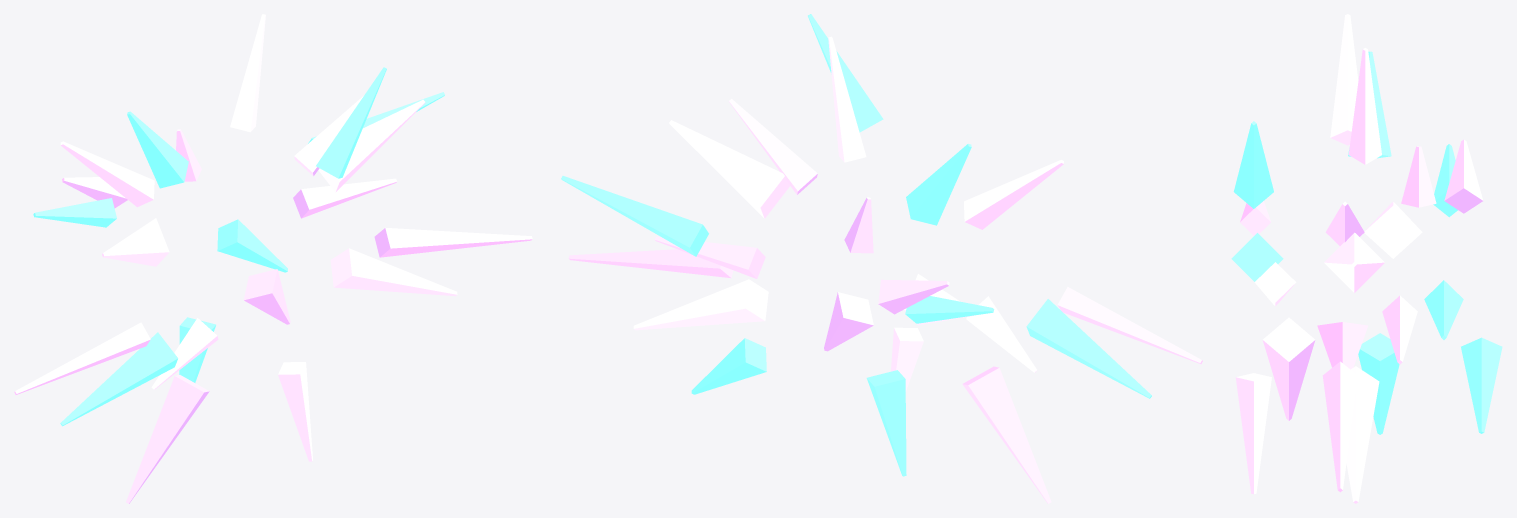
The model's file is gradburst.glb.
The picture shows the model from 3 angles, left to right: view 1: azimuth 30°, elevation 25°; view 2: azimuth 150°, elevation 25°; view 3: azimuth 270°, elevation 25°; orthographic projection. The views are drawn at different scales.
Parts seen in each view (by area): view 1: Violet Fade dimensional effect.001; view 2: Violet Fade dimensional effect.001; view 3: Violet Fade dimensional effect.001.
Part boxes in pixels (x1=…): Violet Fade dimensional effect.001: x1=14, y1=14, x2=532, y2=503; Violet Fade dimensional effect.001: x1=561, y1=14, x2=1202, y2=503; Violet Fade dimensional effect.001: x1=1231, y1=14, x2=1502, y2=503.
Size of the model in its own units: 1.58 by 1.15 by 0.6109.
